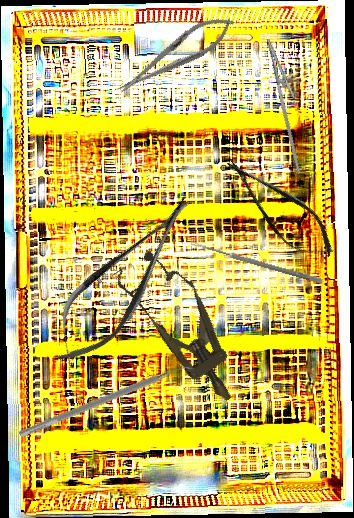Micro Scissor: (33, 181, 215, 379), (213, 145, 345, 272)
Needle Holder: (110, 5, 242, 104), (250, 34, 327, 175)
Spatula Surgical: (18, 358, 197, 446)
Speculum: (109, 240, 257, 418)
Surgical Spoon: (188, 240, 324, 284)
